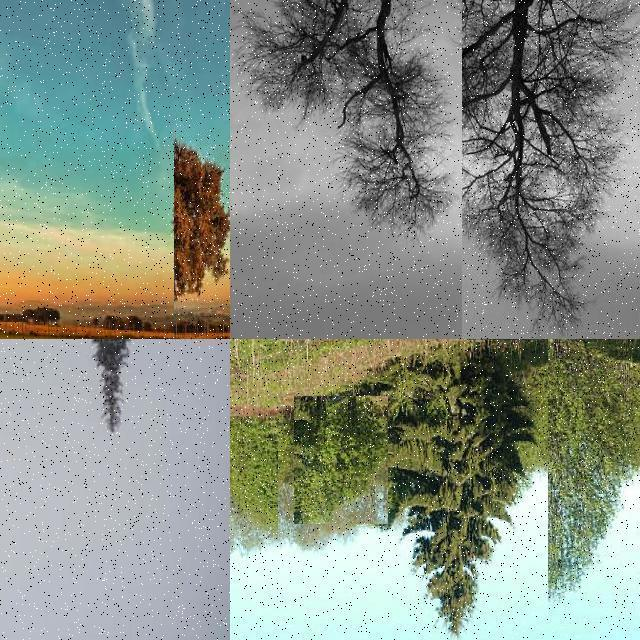tree: (462, 0, 640, 340), (235, 0, 458, 252), (394, 340, 526, 640), (548, 339, 640, 617), (174, 120, 230, 340), (294, 396, 388, 524), (230, 416, 278, 538), (86, 339, 140, 441)
